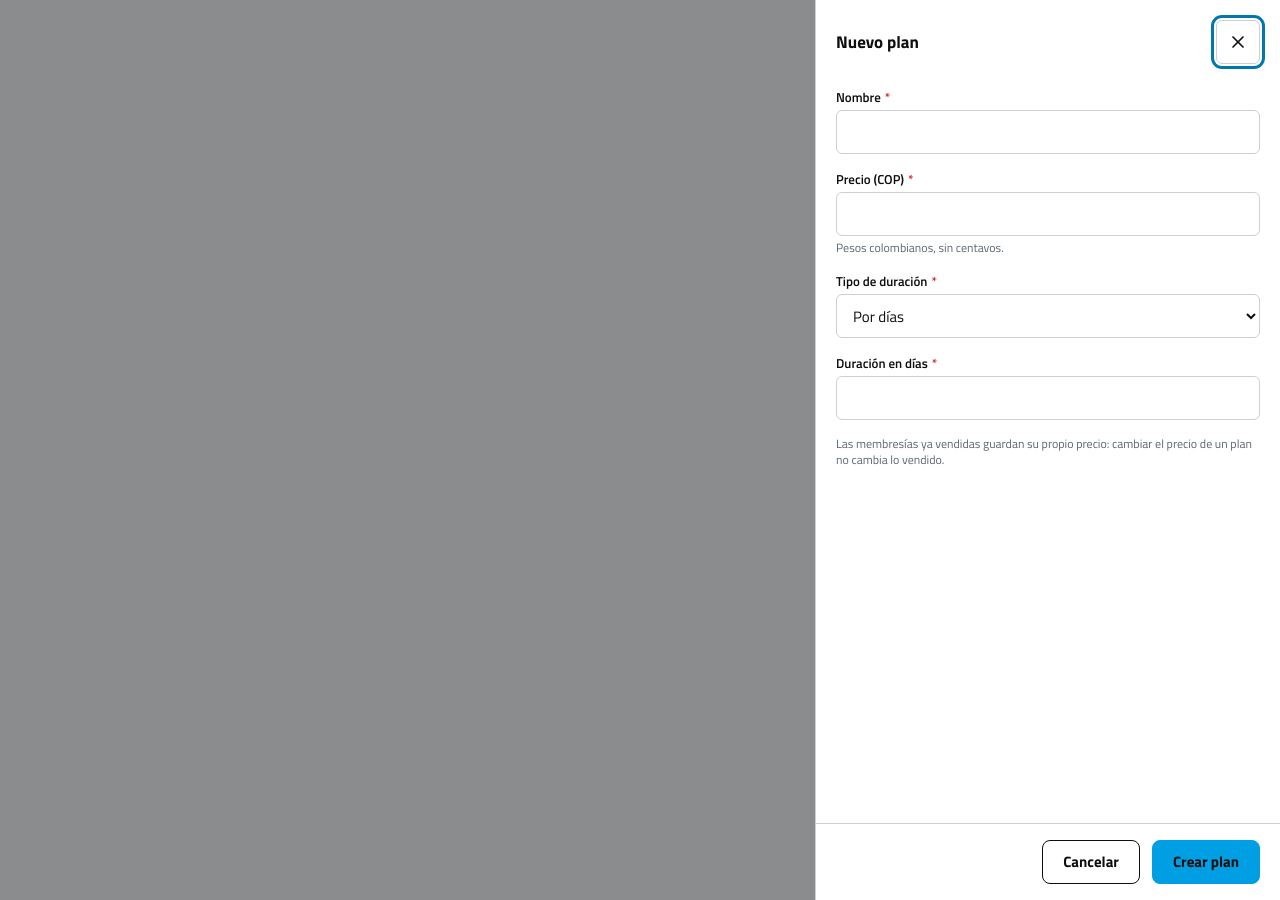
Scenario: PlanForm · precio en COP › un precio con centavos no se reformatea y se rechaza sin enviar
The width and height of the screenshot is (1280, 900).
Type "Mensual" into the field labelled "Nombre*". click: (1048, 132)
box: [836, 110, 1260, 154]
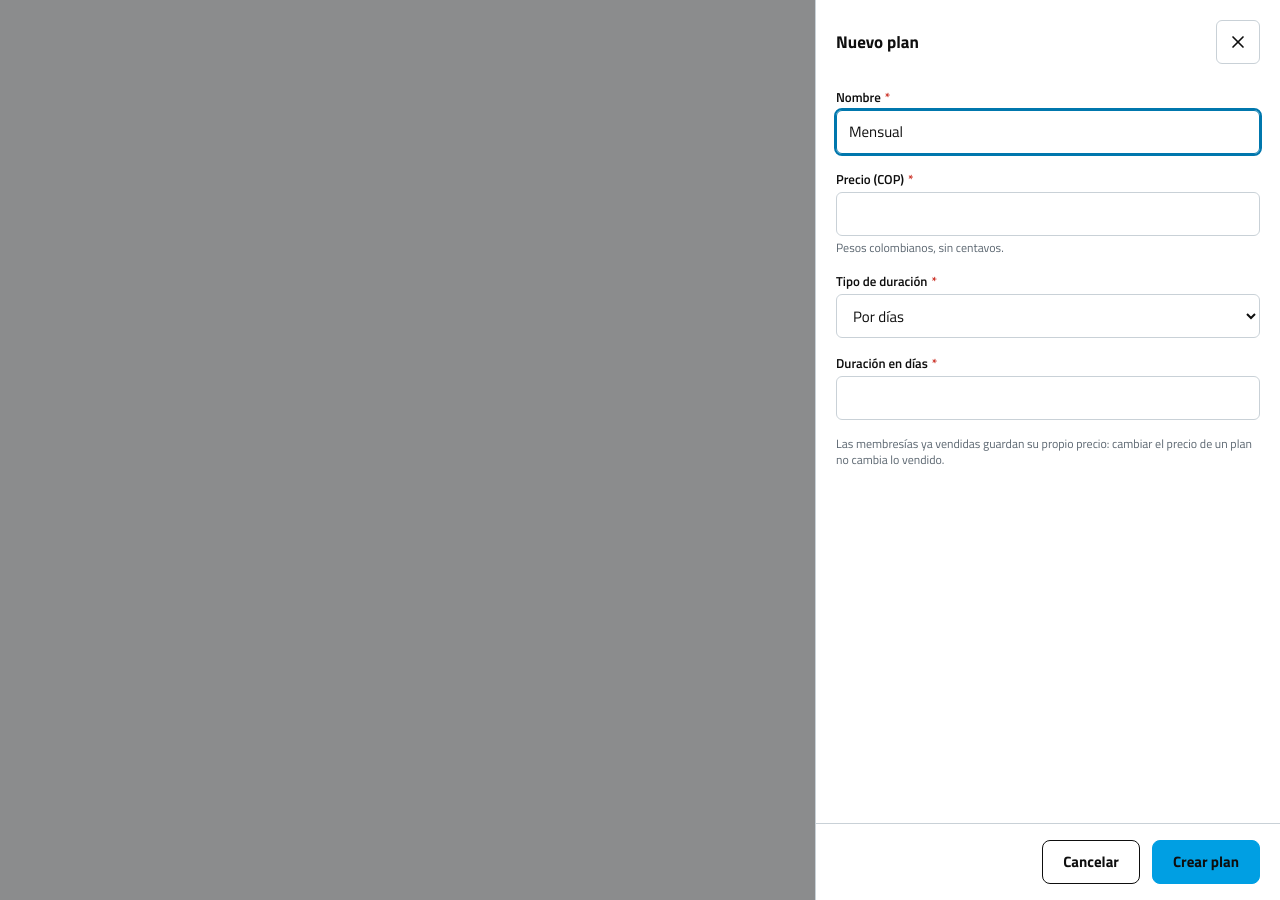
Type "30" into the field labelled "Duración en días*". click: (1048, 398)
box: [836, 376, 1260, 420]
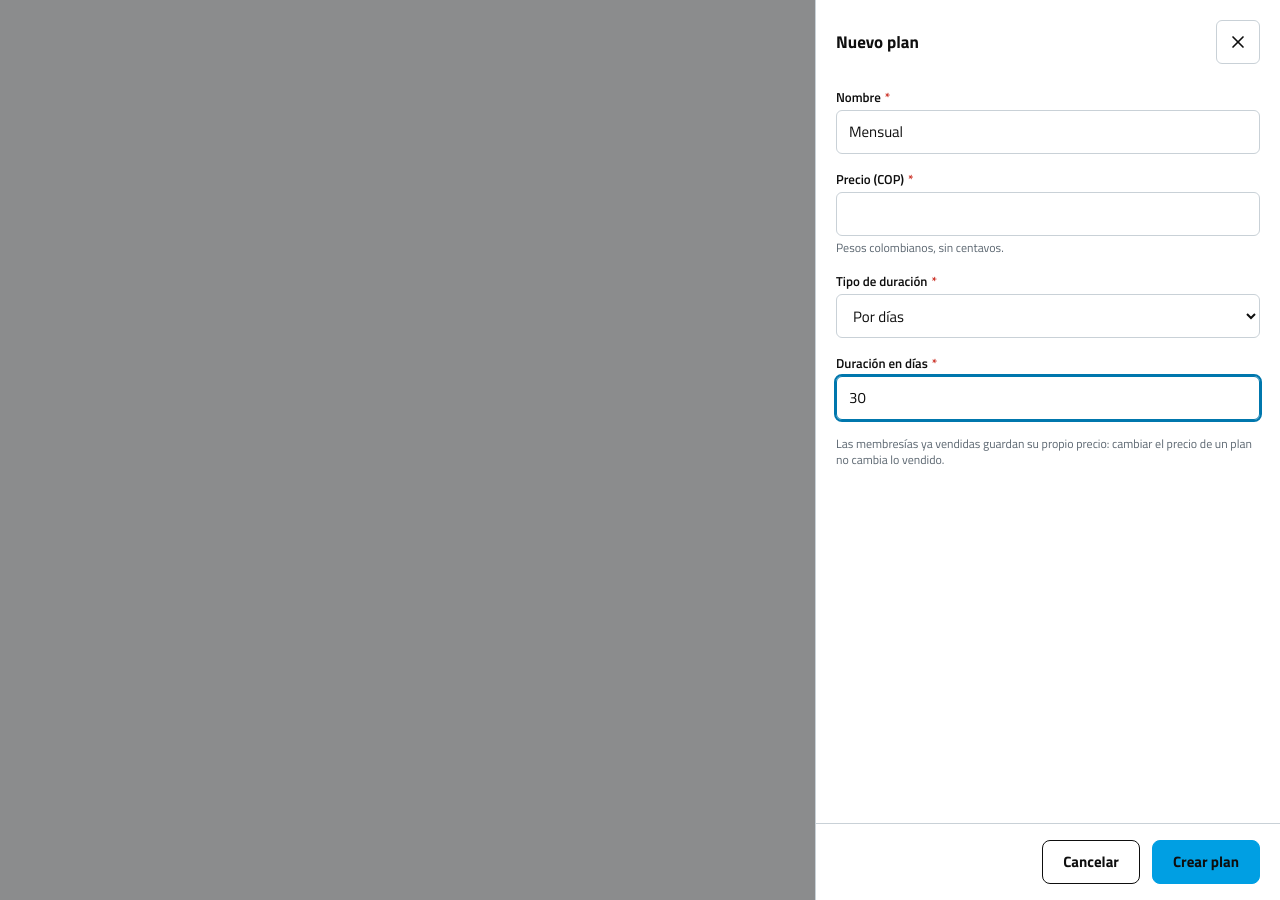
Type "120000,50" into the field labelled "Precio (COP)*". click: (1048, 214)
box: [836, 192, 1260, 236]
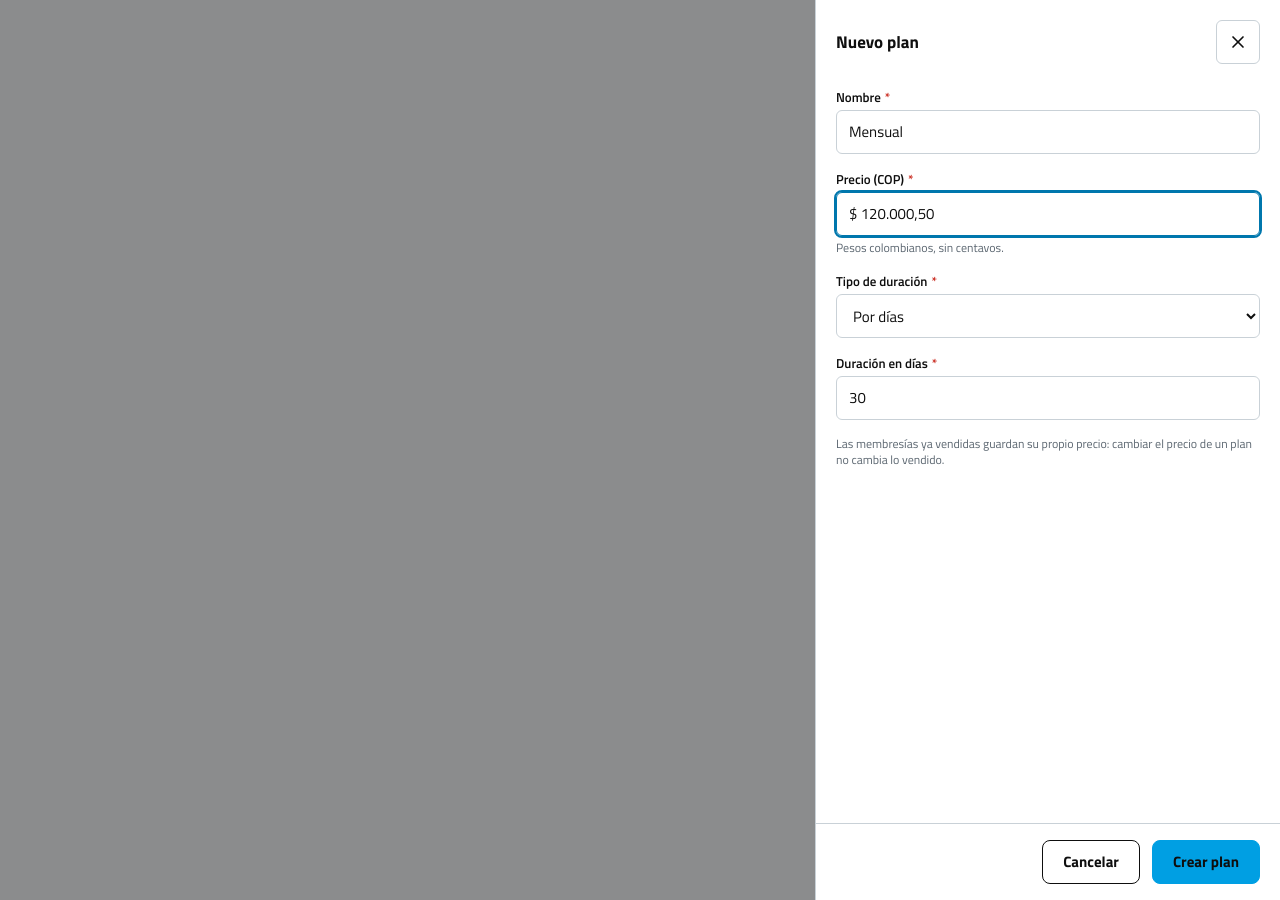
Check: the field labelled "Precio (COP)*" holds "$ 120.000,50", box [836, 192, 1260, 236]
Click the button "Crear plan". click: (1206, 862)
box: [1152, 840, 1260, 884]
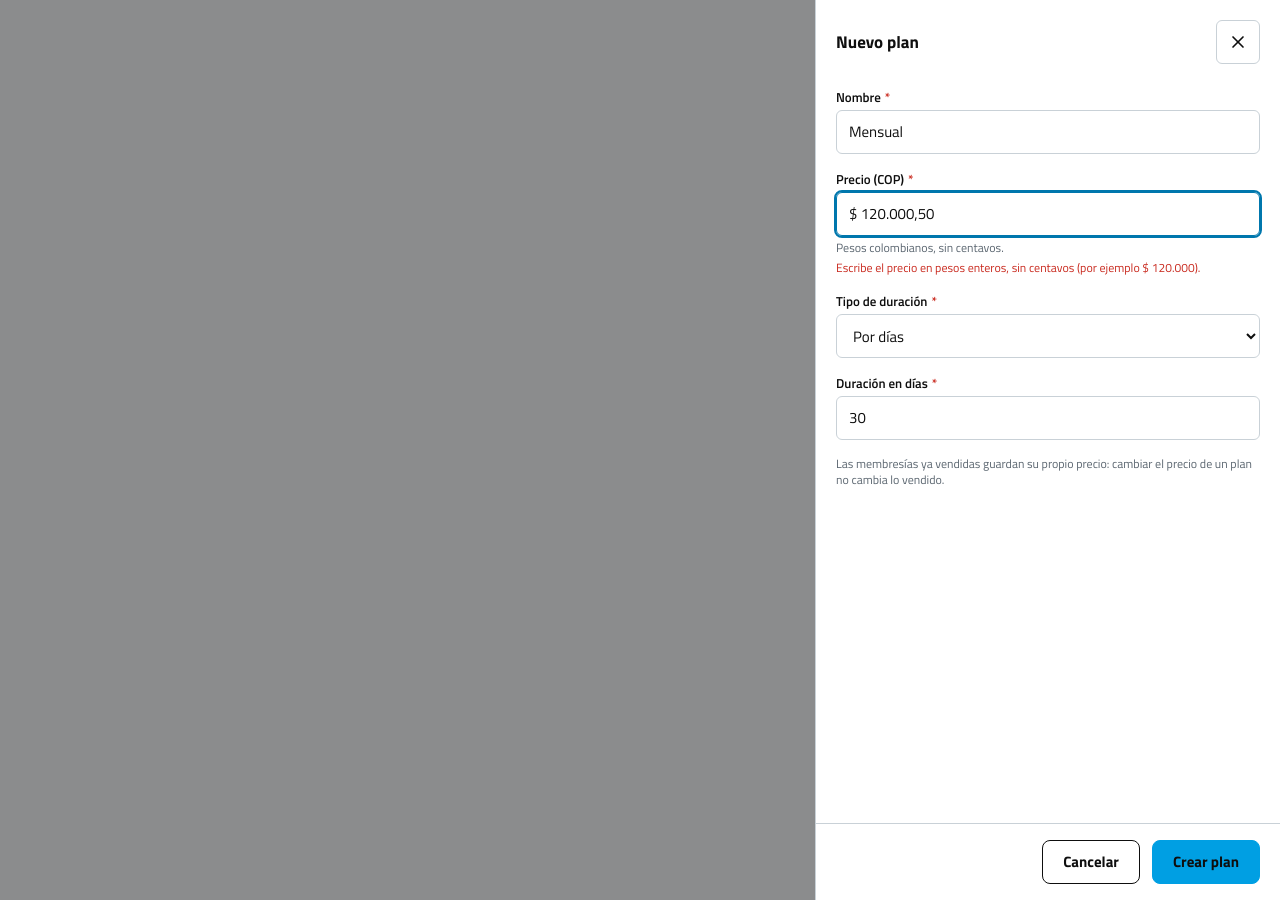
Check: the text "Escribe el precio en pesos enteros, sin centavos (por ejemplo $ 120.000)." is shown, box [836, 260, 1260, 276]
